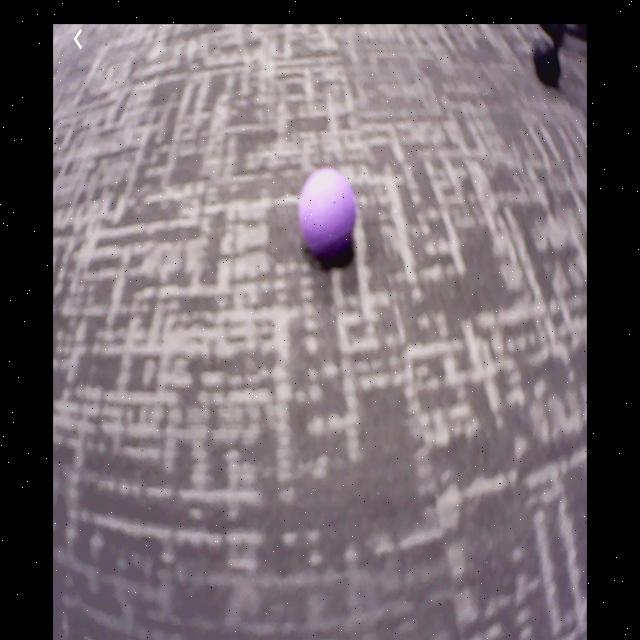ball: (301, 169, 357, 253)
